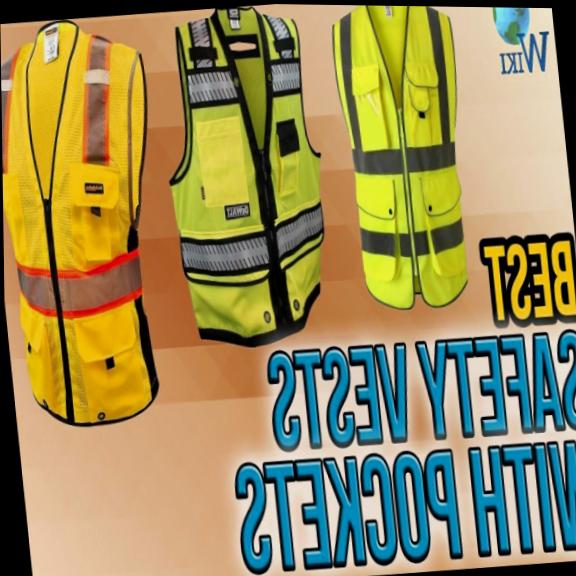safety_vest: (0, 12, 182, 437), (152, 2, 341, 354), (327, 5, 484, 316)
